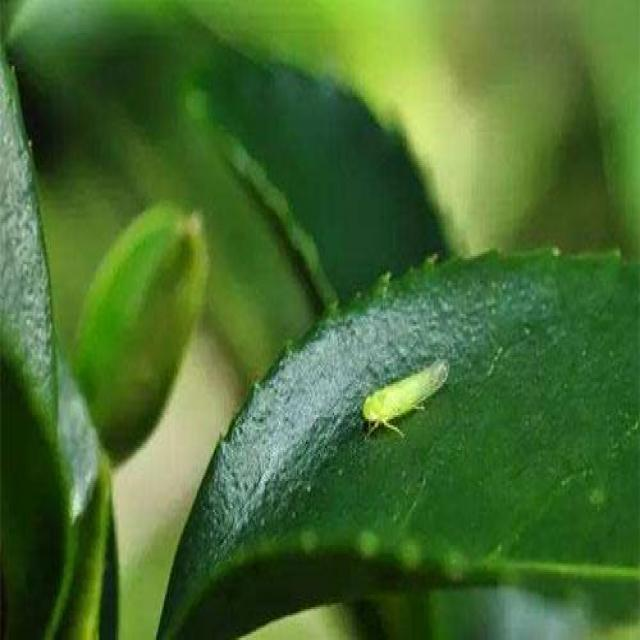Yechan: (361, 353, 451, 446)
